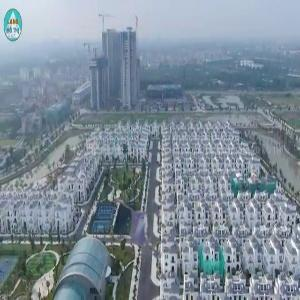drone: (109, 194, 190, 275)
